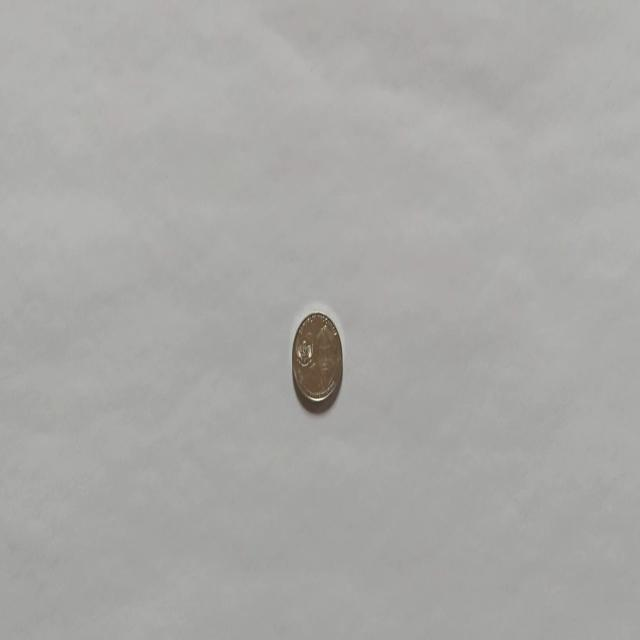dua ratus rupiah: (290, 310, 344, 410)
